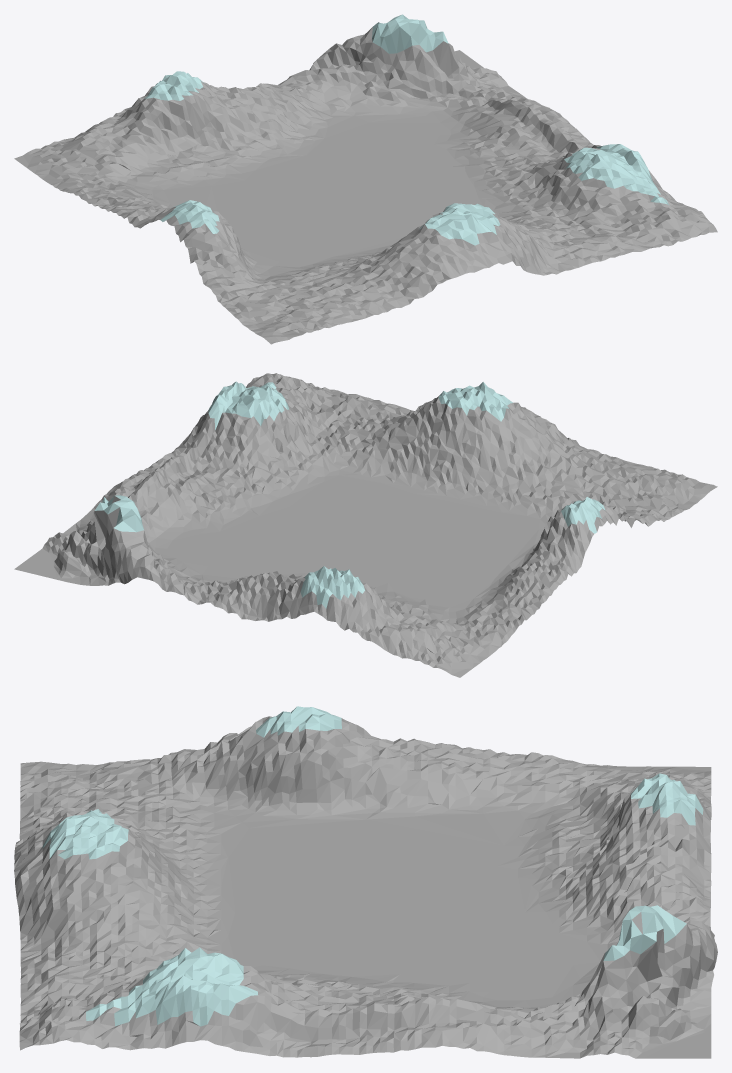
The model's file is mountains.fbx.
The picture shows the model from 3 angles, top to bottom: view 1: azimuth 30°, elevation 25°; view 2: azimuth 150°, elevation 25°; view 3: azimuth 270°, elevation 25°; orthographic projection. The views are drawn at different scales.
Visible parts, largest first — view 1: pPlane5; view 2: pPlane5; view 3: pPlane5.
Boxes of the visible parts, box(x1,y1,x2,y2) form: pPlane5: box(14, 14, 717, 344); pPlane5: box(14, 373, 717, 677); pPlane5: box(14, 706, 717, 1058).
Bounding box in the file's own units: 3552 × 537 × 3611.
